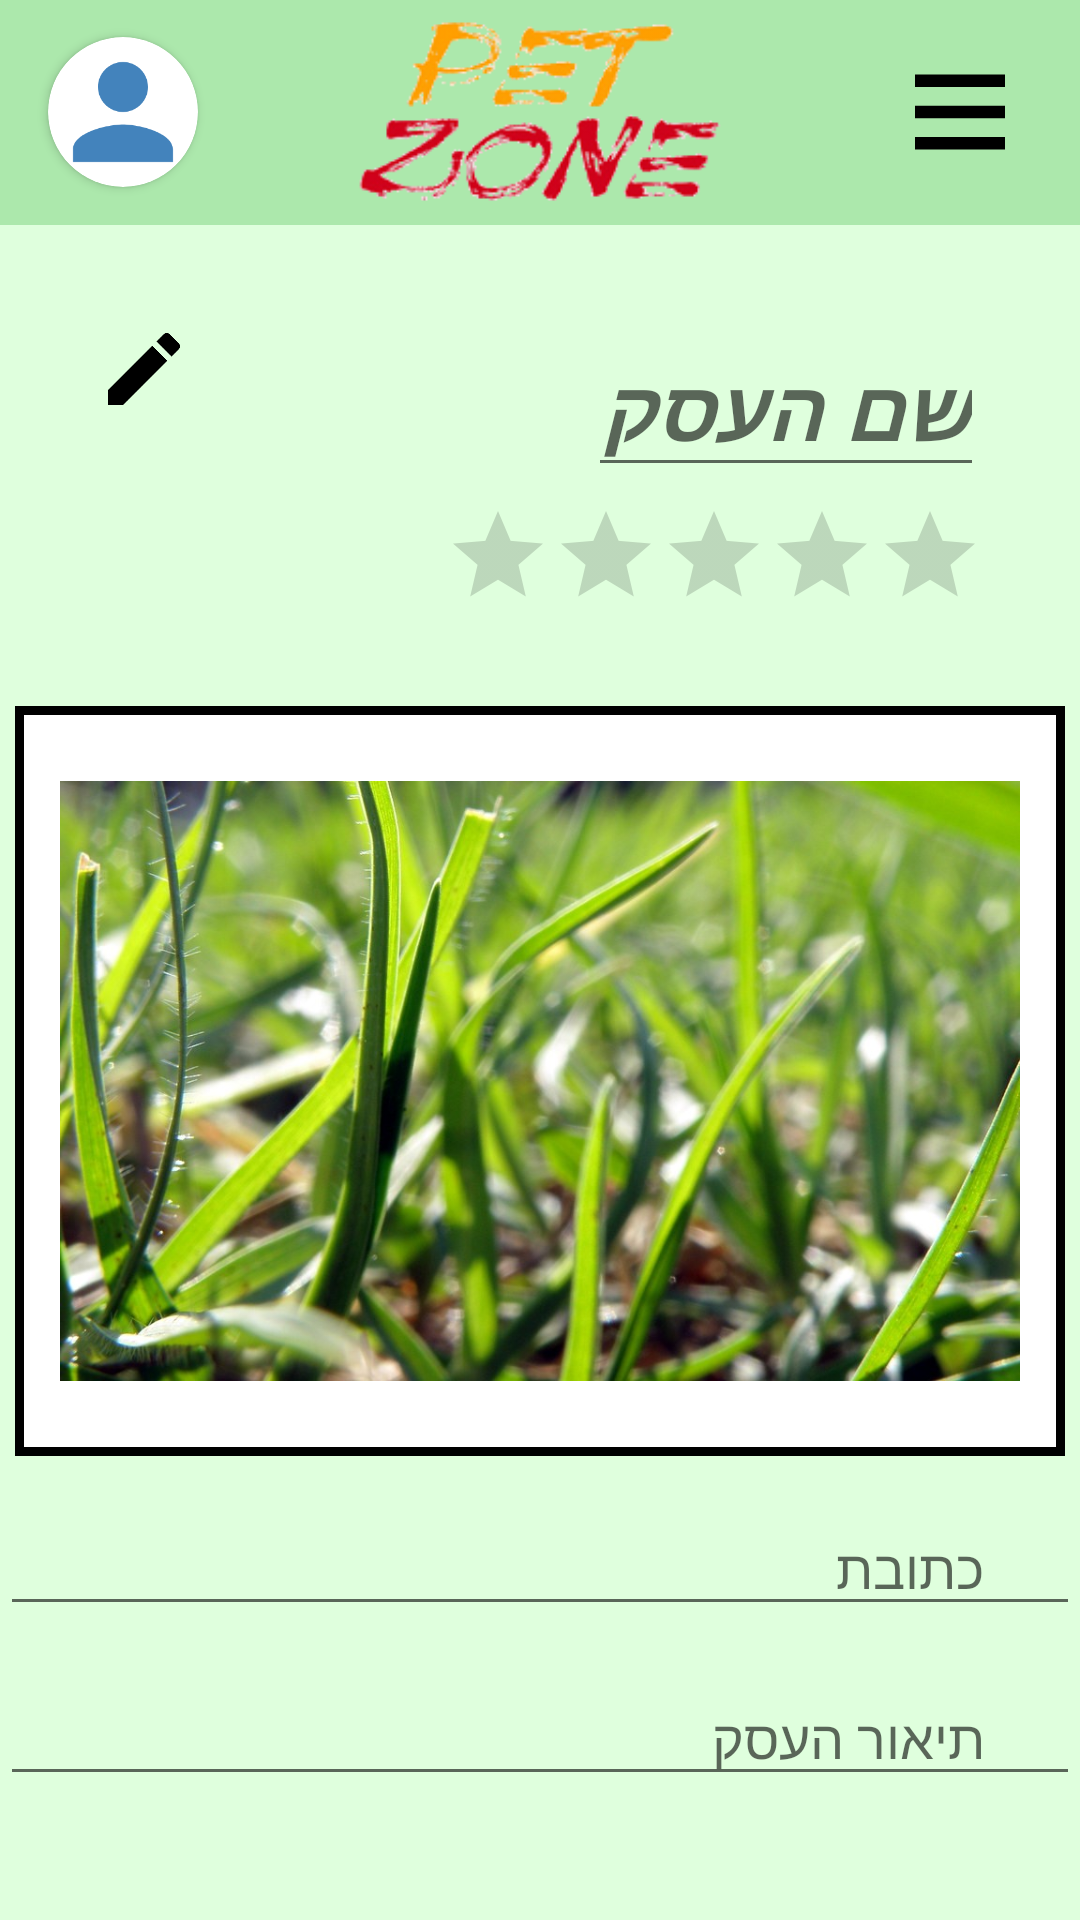

Where icons sit on this 1080×1920 app screen, as bbox(x1, y1, x2, y2):
edit page: bbox(108, 333, 180, 405)
menu: bbox(915, 74, 1005, 150)
no profile photo: bbox(48, 37, 198, 187)
